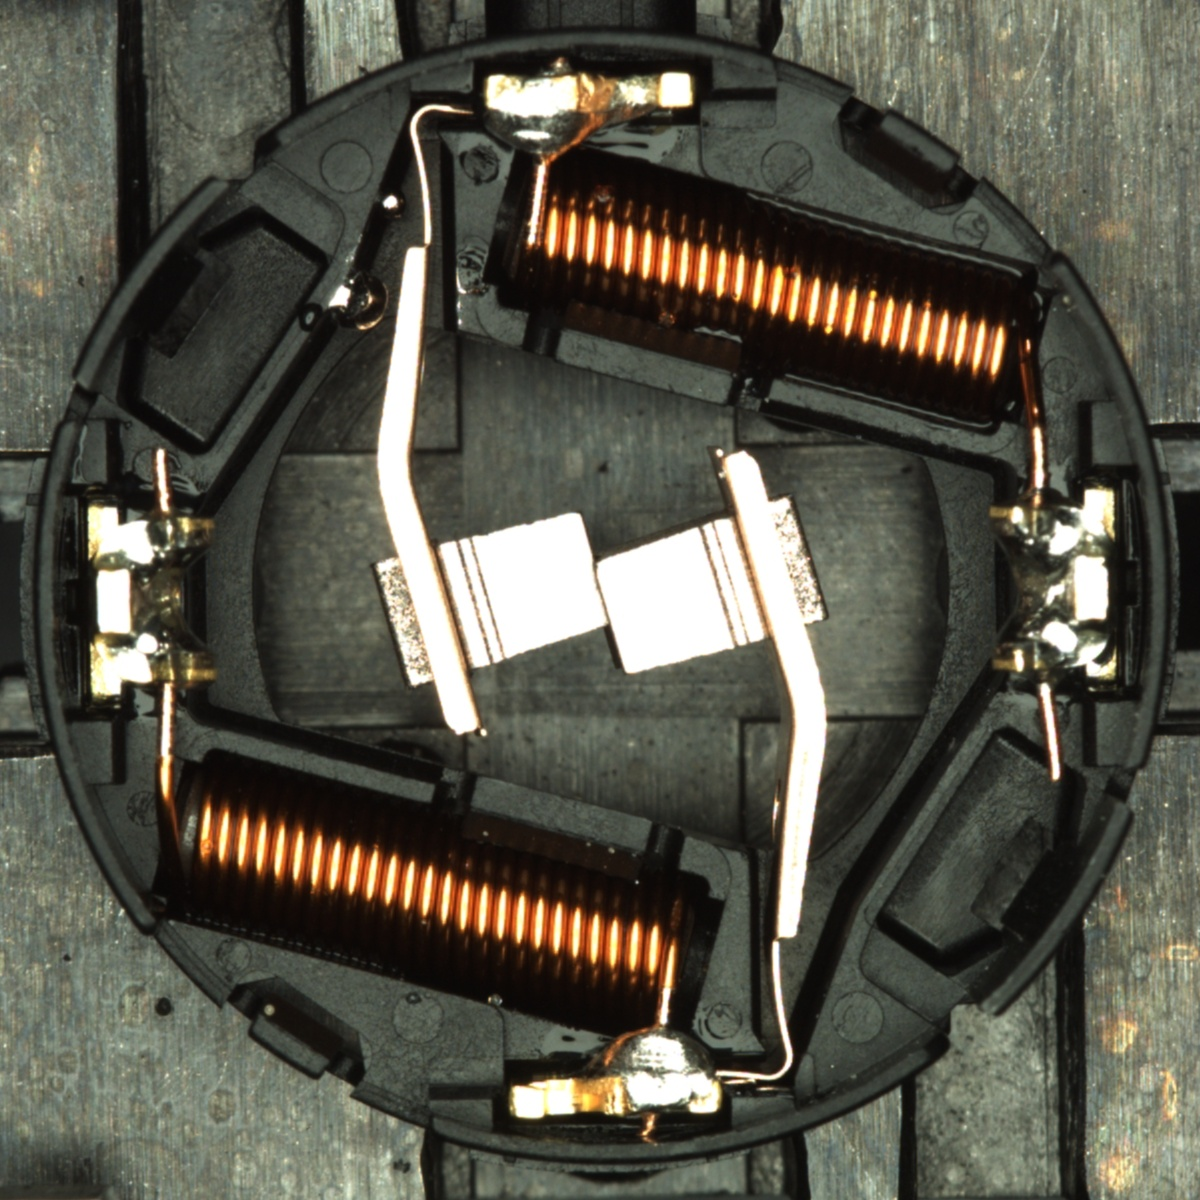1: (714, 929, 943, 1154), (256, 32, 485, 256)
2: (256, 929, 485, 1154), (714, 32, 943, 256)
3: (26, 256, 256, 480), (943, 704, 1173, 929)
4: (714, 704, 943, 929)
5: (485, 816, 714, 1042), (485, 144, 714, 368)
6: (714, 256, 943, 480), (256, 704, 485, 929)
7: (943, 256, 1173, 480), (26, 704, 256, 929)
bui_chi: (376, 188, 408, 220)
cacbon: (397, 499, 802, 686)
chau_dien: (80, 499, 222, 700), (982, 486, 1123, 685)
hat_chi: (332, 271, 389, 332)
tay_choi: (507, 1020, 723, 1120), (481, 67, 700, 166)
thanh_de: (953, 784, 1141, 1033), (60, 165, 244, 405)
vun_chi: (330, 269, 389, 333)
